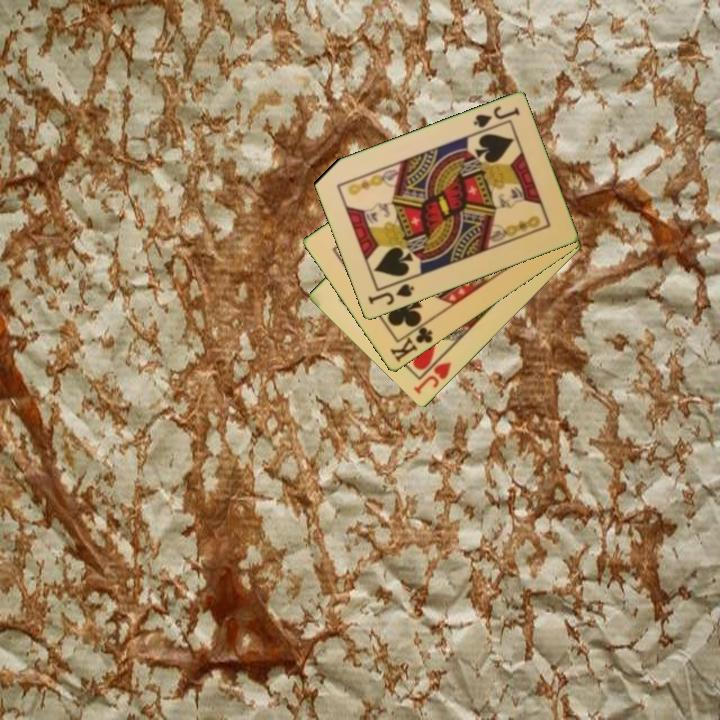Jh: (410, 349, 454, 397)
Js: (364, 280, 417, 309), (469, 103, 523, 131)
Kc: (386, 318, 436, 366)
